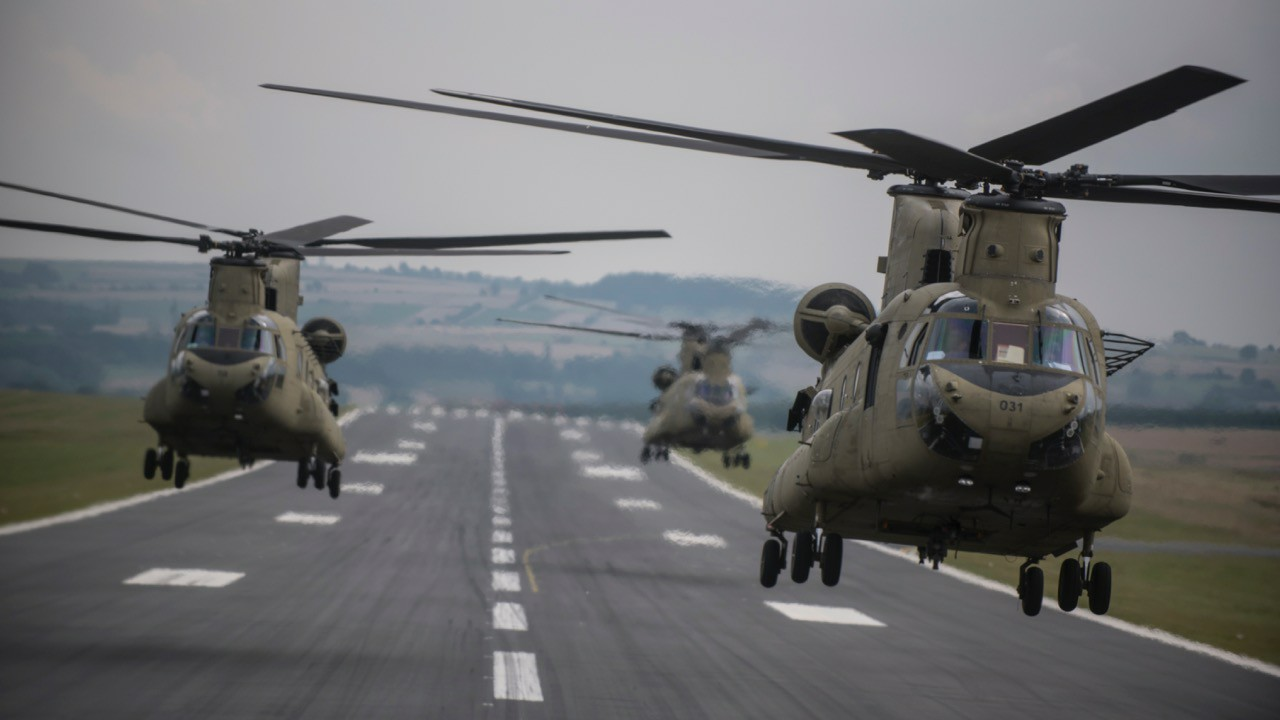chinook: (709, 119, 1171, 619), (104, 196, 393, 510), (601, 310, 770, 476)
